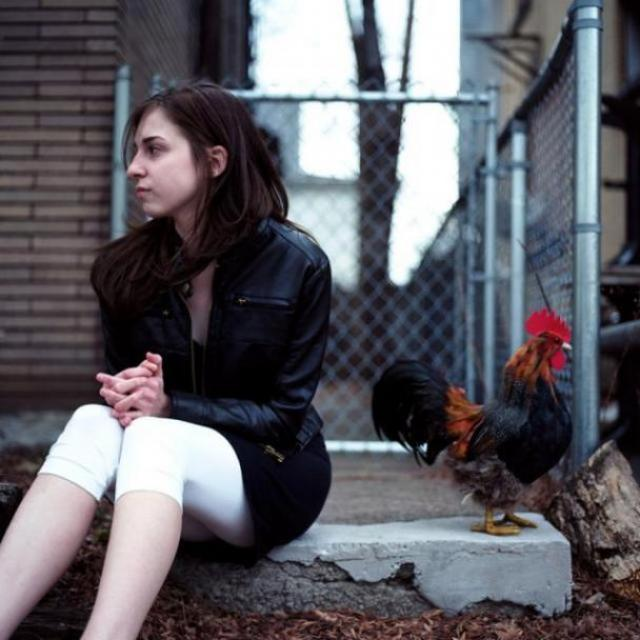Chicken: (388, 302, 583, 527)
